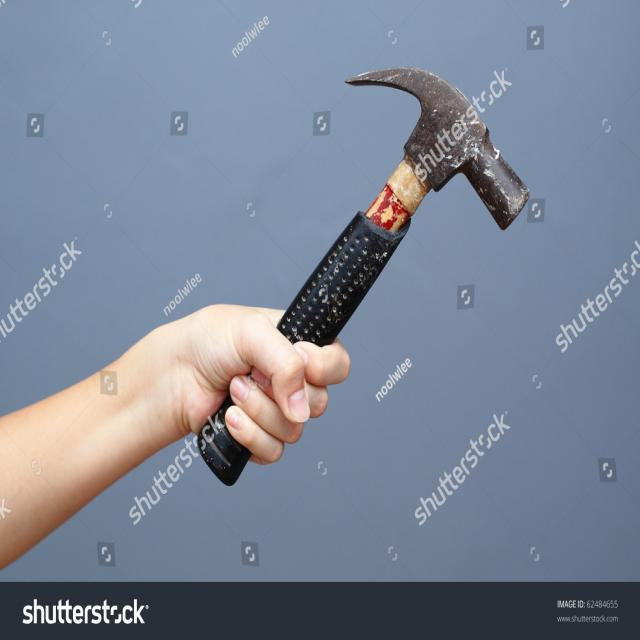hammer: (193, 62, 534, 486)
